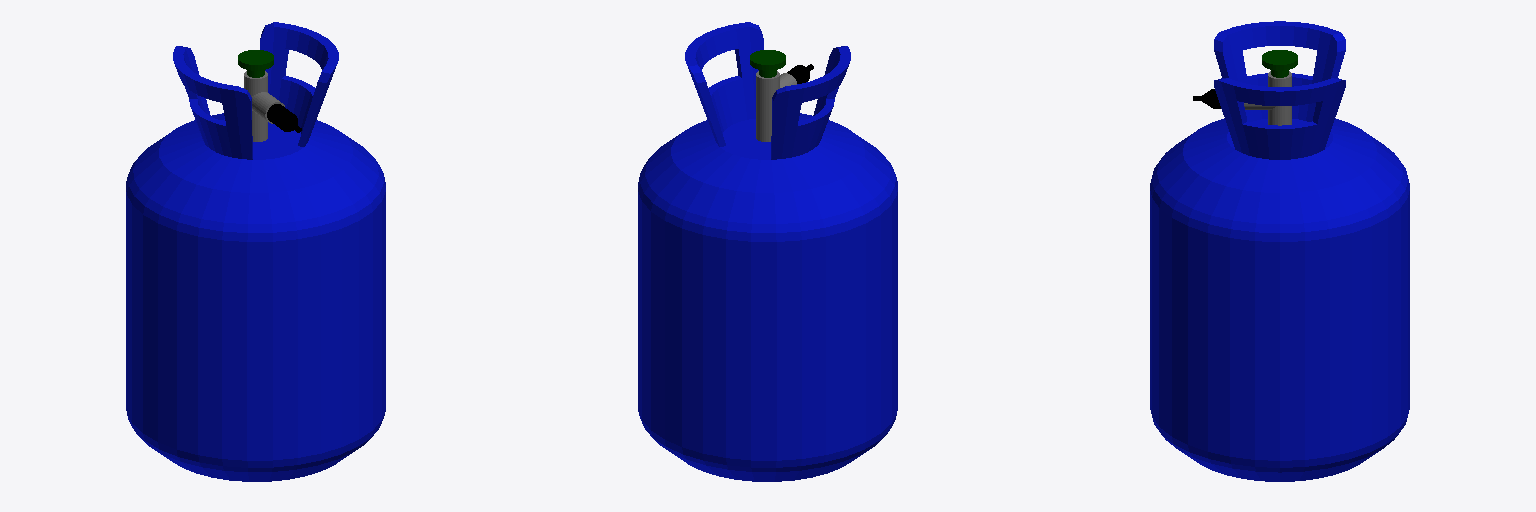
The model's file is Orangutang1-bl.obj.
3 views of the same model, side by side, from view 1: azimuth 30°, elevation 25°; view 2: azimuth 150°, elevation 25°; view 3: azimuth 270°, elevation 25° (orthographic).
Visible parts, largest first — view 1: Helium_Tank_FBX; view 2: Helium_Tank_FBX; view 3: Helium_Tank_FBX.
Boxes of the visible parts, x1=… form: Helium_Tank_FBX: x1=126, y1=22, x2=385, y2=481; Helium_Tank_FBX: x1=638, y1=22, x2=897, y2=481; Helium_Tank_FBX: x1=1150, y1=21, x2=1409, y2=481.
Size of the model in its own units: 3.1 by 5.23 by 3.1.